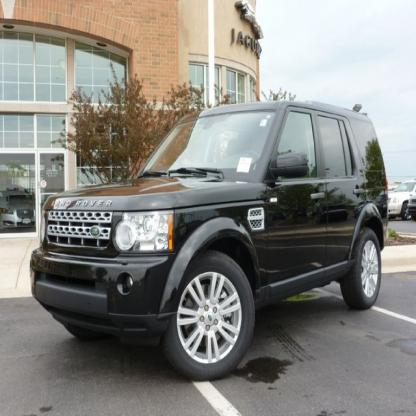car: (27, 98, 391, 380)
